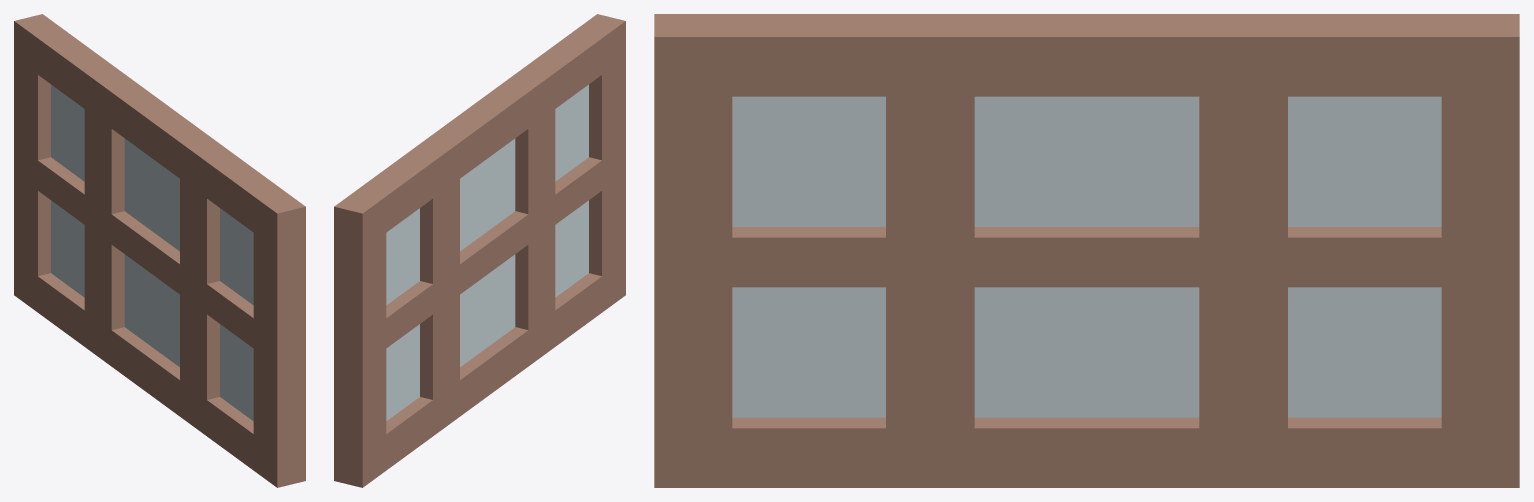
The model's file is Window_Large.fbx.
3 views of the same model, side by side, from view 1: azimuth 30°, elevation 25°; view 2: azimuth 150°, elevation 25°; view 3: azimuth 270°, elevation 25° (orthographic). The views are drawn at different scales.
Parts seen in each view (by area): view 1: Widow_Large; view 2: Widow_Large; view 3: Widow_Large.
Boxes of the visible parts, <box> form: Widow_Large: <box>14,14,305,487</box>; Widow_Large: <box>334,14,625,487</box>; Widow_Large: <box>654,14,1519,487</box>.
Size of the model in its own units: 400 by 25.02 by 230.
